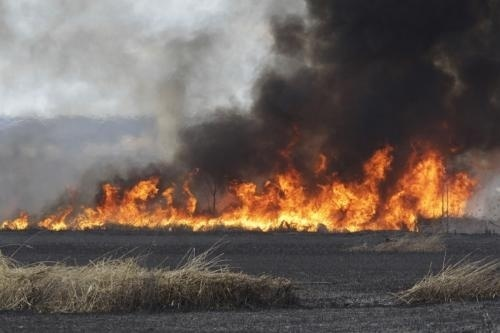fire: (123, 131, 482, 233)
